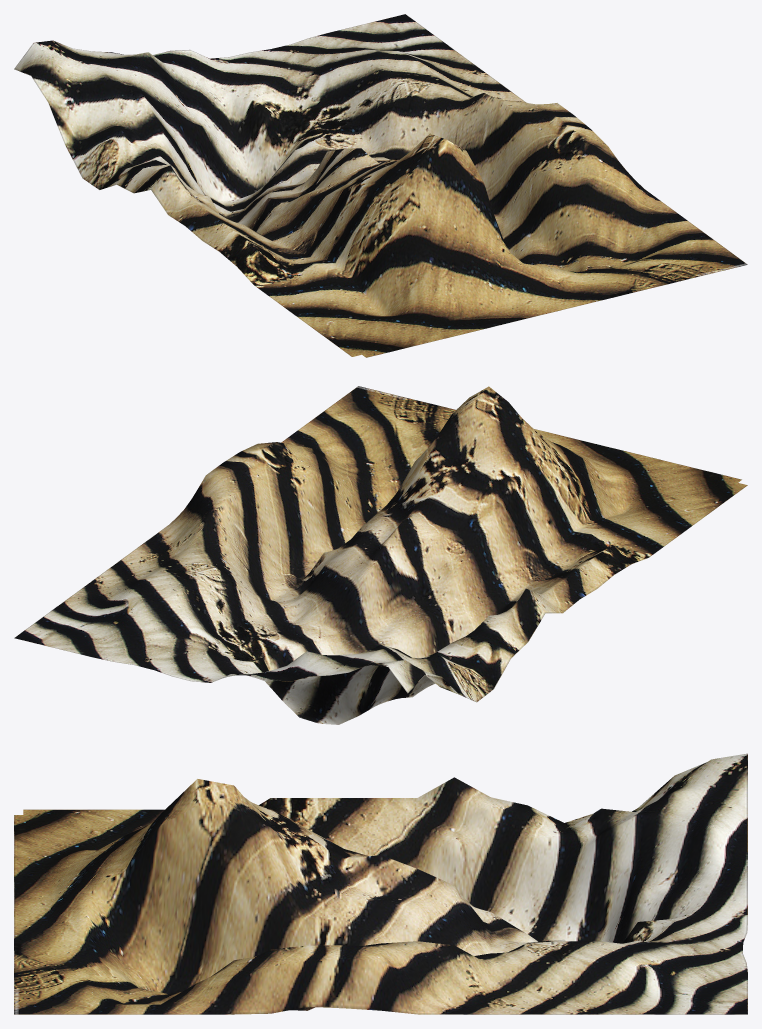
3 renders of one model, top to bottom at view 1: azimuth 30°, elevation 25°; view 2: azimuth 150°, elevation 25°; view 3: azimuth 270°, elevation 25°, orthographic. The views are drawn at different scales.
Visible parts, largest first — view 1: geo_terrain18; view 2: geo_terrain18; view 3: geo_terrain18.
Boxes of the visible parts, box(x1,y1,x2,y2) form: geo_terrain18: box(14, 14, 747, 357); geo_terrain18: box(14, 386, 747, 724); geo_terrain18: box(14, 753, 747, 1014).
Size of the model in its own units: 1980 by 3000 by 932.
